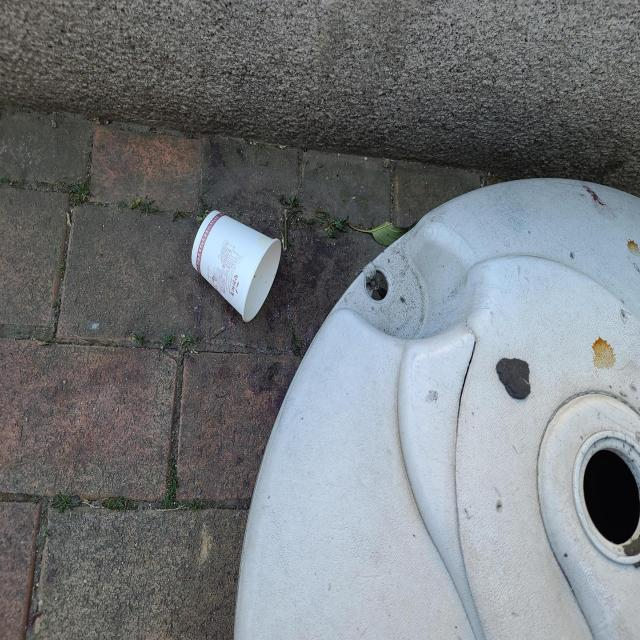paperpack: (192, 210, 282, 322)
